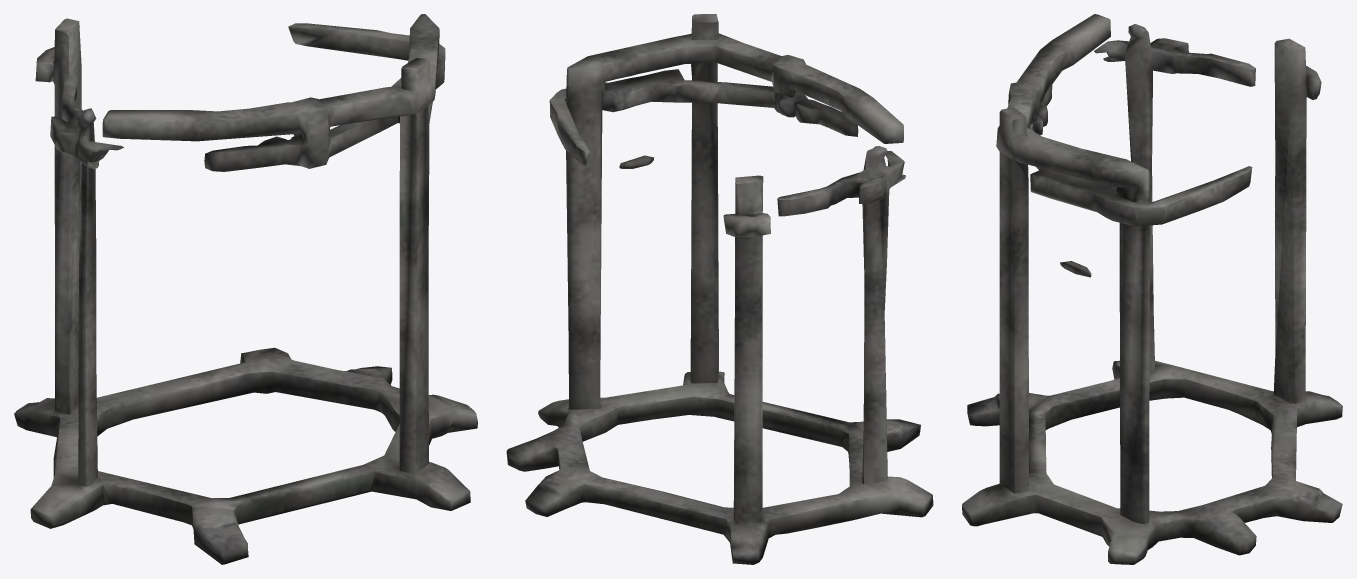
The model's file is sturdy-granite-torii-frame-v001.glb.
The picture shows the model from 3 angles, left to right: view 1: azimuth 30°, elevation 25°; view 2: azimuth 150°, elevation 25°; view 3: azimuth 270°, elevation 25°; orthographic projection. The views are drawn at different scales.
Visible parts, largest first — view 1: sturdy-granite-torii-frame; view 2: sturdy-granite-torii-frame; view 3: sturdy-granite-torii-frame.
Boxes of the visible parts, x1,y1,x2,y2 form: sturdy-granite-torii-frame: [14, 14, 477, 564]; sturdy-granite-torii-frame: [506, 14, 933, 564]; sturdy-granite-torii-frame: [962, 14, 1342, 564].
Size of the model in its own units: 2.41 by 2.29 by 1.97.
Materials: 1 (1 with a texture image).
